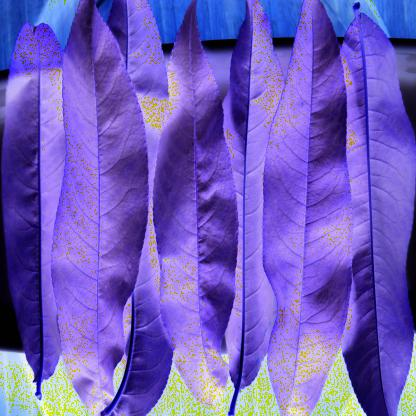Peach leaf: (52, 3, 146, 415), (149, 5, 239, 415), (263, 1, 349, 415), (336, 3, 410, 415), (6, 21, 63, 392)
